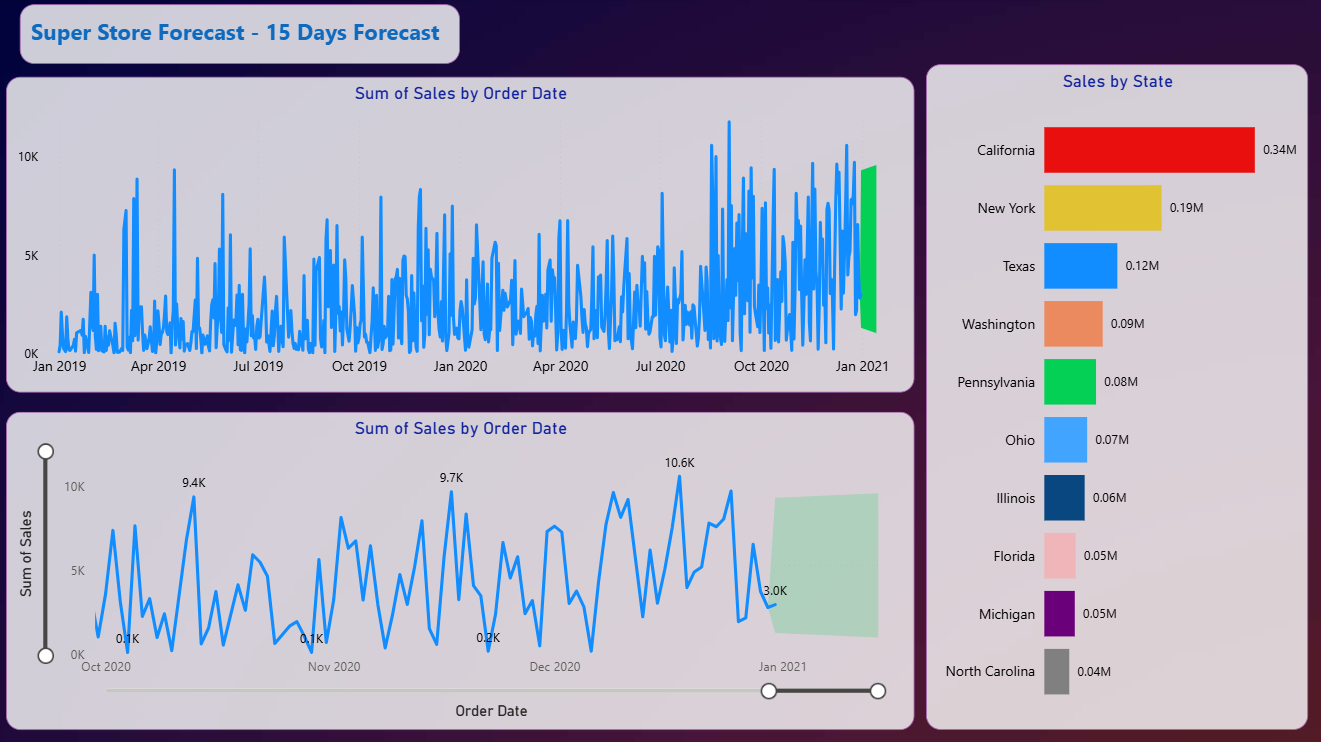

What the dashboard file says about the page in this screenshot:
{"tool":"powerbi","page":{"name":"Page 2","canvas":[1280,720],"ordinal":1},"visuals":[{"type":"lineChart","fields":{"Y":["Sum(SuperStore_Sales_Dataset.Sales)"],"Category":["SuperStore_Sales_Dataset.Order Date"]},"box":[9.6,75.5,876.8,304.6],"z":0},{"type":"lineChart","fields":{"Y":["Sum(SuperStore_Sales_Dataset.Sales)"],"Category":["SuperStore_Sales_Dataset.Order Date"]},"box":[9.6,399.3,876.8,307.4],"z":1000},{"type":"barChart","title":"Sales by State","fields":{"Y":["Sum(SuperStore_Sales_Dataset.Sales)"],"Category":["SuperStore_Sales_Dataset.State"]},"box":[897.4,64.5,369.1,642.2],"z":2000},{"type":"textbox","box":[22.9,6,424.7,57.9],"z":3000}]}

Visuals, with their boxes in screenshot pixels (x1, y1, x2, y2), scaled from the page's 1280x720 canvas onto the 1321x742 screenshot:
lineChart - Sum(SuperStore_Sales_Dataset.Sales) x SuperStore_Sales_Dataset.Order Date: locate(10, 78, 915, 392)
lineChart - Sum(SuperStore_Sales_Dataset.Sales) x SuperStore_Sales_Dataset.Order Date: locate(10, 412, 915, 728)
"Sales by State" barChart: locate(926, 66, 1307, 728)
textbox: locate(24, 6, 462, 66)
